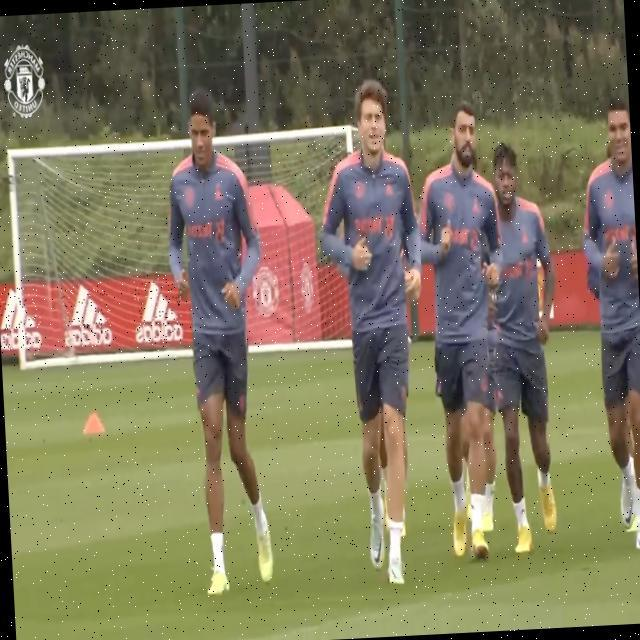Adidas: (134, 278, 184, 346), (61, 284, 112, 349), (0, 286, 42, 353)
